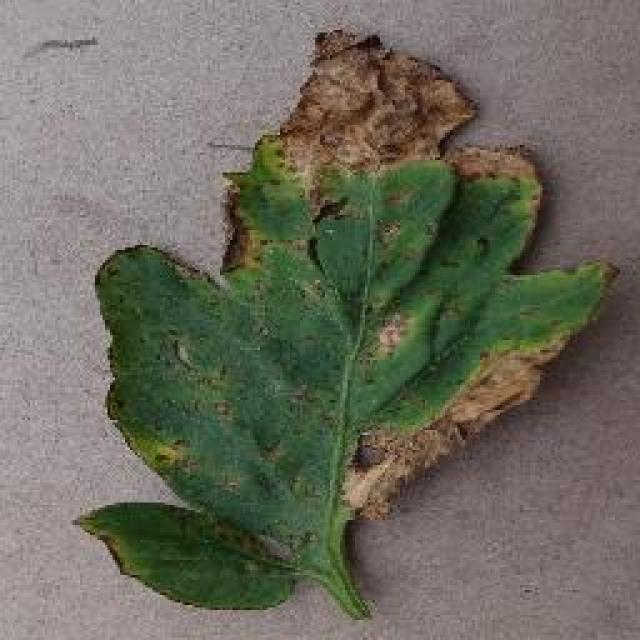Tomato bacterial spot leaf: (89, 31, 609, 619)
